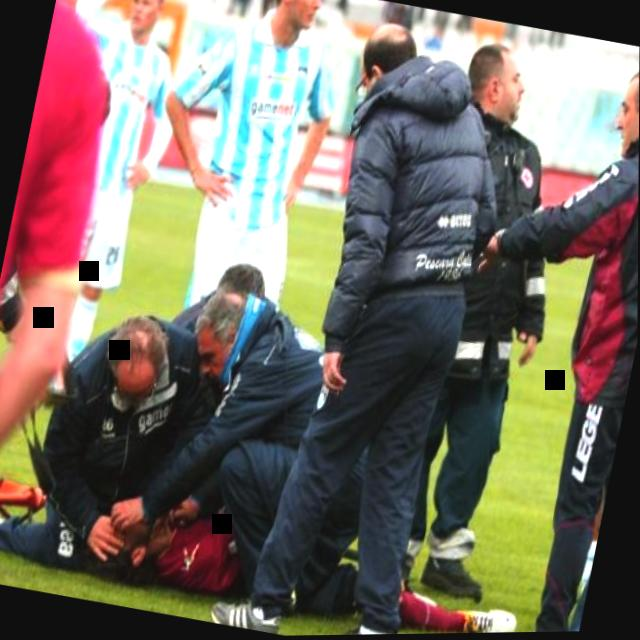Fall-Detected: (0, 431, 247, 615)
